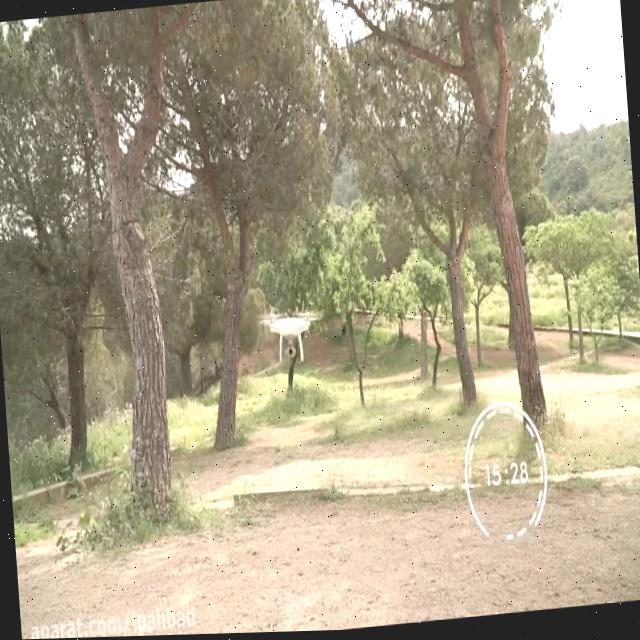drone: (250, 302, 328, 369)
